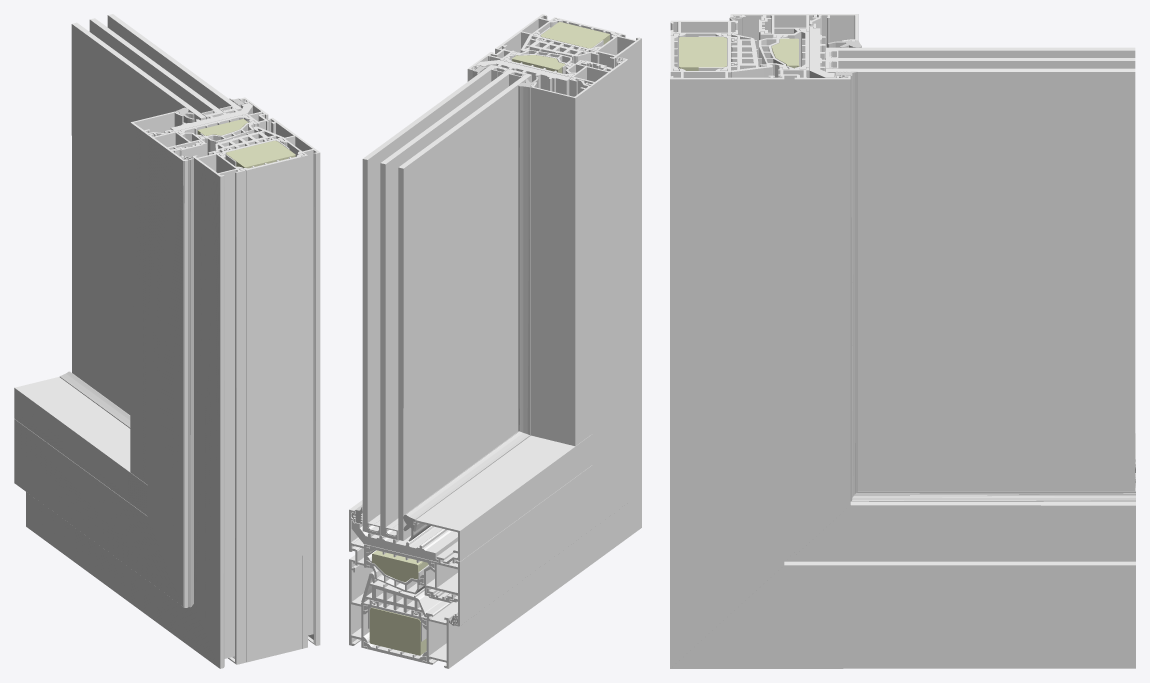
The model's file is aws90.glb.
3 views of the same model, side by side, from view 1: azimuth 30°, elevation 25°; view 2: azimuth 150°, elevation 25°; view 3: azimuth 270°, elevation 25° (orthographic). The views are drawn at different scales.
Parts seen in each view (by area): view 1: profile-color inside, connectors, glas, profile-Aluminium, gaskets, profile-color outside, insulation, main gasket, block gasket; view 2: profile-color inside, glas, profile-Aluminium, gaskets, insulation, connectors, block gasket, main gasket, kanteT; view 3: profile-color outside, glas, gaskets, profile-Aluminium, insulation, connectors, main gasket, block gasket.
Boxes of the visible parts, left/top/right/bottom form: profile-color inside: left=14, top=111, right=223, bottom=668; connectors: left=178, top=115, right=303, bottom=662; glas: left=71, top=14, right=241, bottom=414; profile-Aluminium: left=131, top=97, right=319, bottom=667; gaskets: left=59, top=98, right=246, bottom=607; profile-color outside: left=261, top=114, right=320, bottom=645; insulation: left=197, top=119, right=295, bottom=168; main gasket: left=215, top=126, right=282, bottom=152; block gasket: left=170, top=102, right=252, bottom=131; profile-color inside: left=416, top=38, right=641, bottom=668; glas: left=362, top=65, right=531, bottom=540; profile-Aluminium: left=349, top=14, right=641, bottom=668; gaskets: left=351, top=57, right=624, bottom=625; insulation: left=369, top=22, right=609, bottom=655; connectors: left=363, top=18, right=617, bottom=662; block gasket: left=351, top=60, right=573, bottom=561; main gasket: left=361, top=35, right=593, bottom=617; kanteT: left=367, top=67, right=523, bottom=536; profile-color outside: left=670, top=75, right=1135, bottom=668; glas: left=826, top=47, right=1135, bottom=491; gaskets: left=729, top=15, right=1135, bottom=501; profile-Aluminium: left=670, top=14, right=857, bottom=660; insulation: left=679, top=37, right=799, bottom=70; connectors: left=670, top=29, right=808, bottom=77; main gasket: left=731, top=33, right=772, bottom=77; block gasket: left=809, top=27, right=836, bottom=77.
Size of the model in its own units: 4.2 by 17.71 by 12.67.
